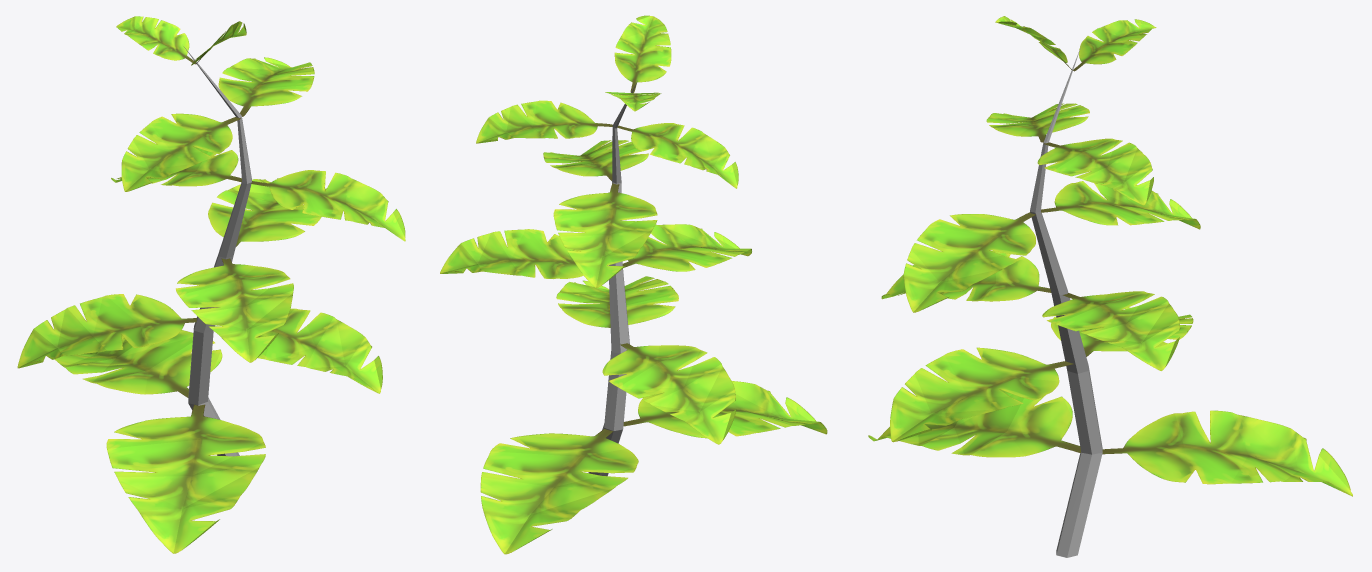
The model's file is tall_shrub.fbx.
3 renders of one model, left to right at view 1: azimuth 30°, elevation 25°; view 2: azimuth 150°, elevation 25°; view 3: azimuth 270°, elevation 25°, orthographic. The views are drawn at different scales.
Parts seen in each view (by area): view 1: tall_shrub; view 2: tall_shrub; view 3: tall_shrub.
Boxes of the visible parts, <box> form: tall_shrub: <box>17,16,405,553</box>; tall_shrub: <box>440,15,827,554</box>; tall_shrub: <box>868,16,1352,557</box>.
Size of the model in its own units: 92.78 by 140 by 121.
